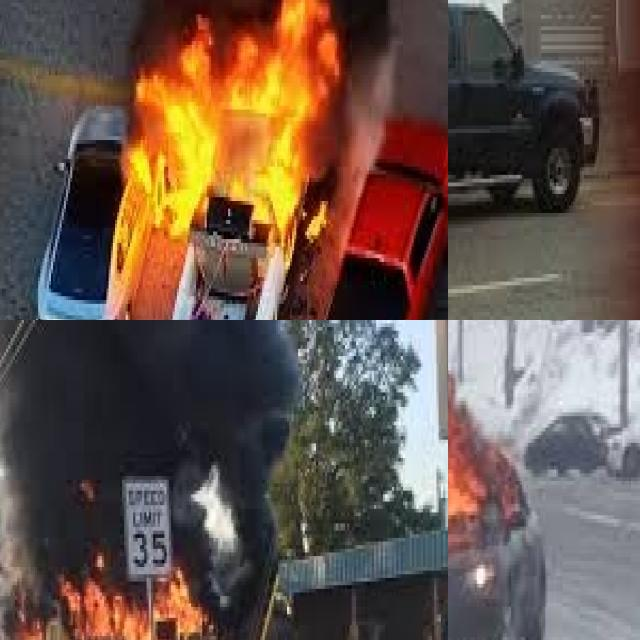fire: (136, 0, 345, 246), (57, 512, 237, 640), (448, 320, 537, 576)
smoke: (0, 320, 293, 585), (57, 0, 424, 64)
